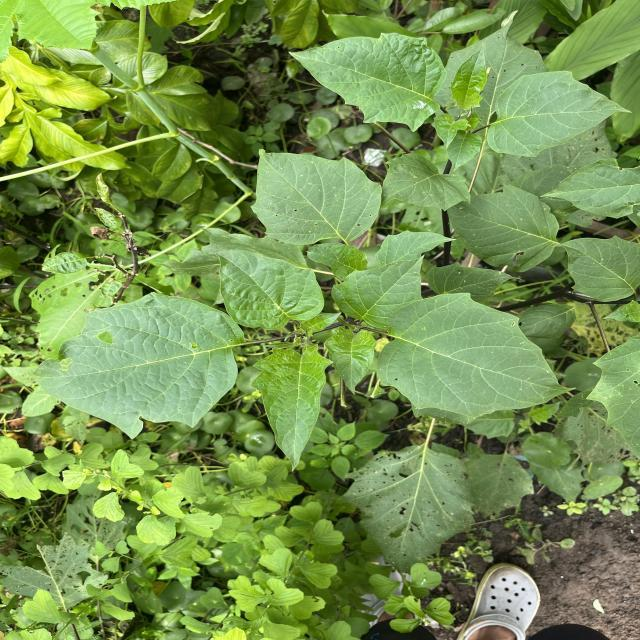Datura metal linn: (24, 289, 252, 441), (374, 291, 578, 421), (286, 30, 448, 134), (485, 70, 636, 160), (249, 146, 384, 246), (249, 343, 335, 473), (206, 248, 326, 331), (330, 252, 426, 330), (550, 234, 640, 303), (380, 151, 472, 213), (322, 326, 378, 396), (448, 40, 490, 112)
